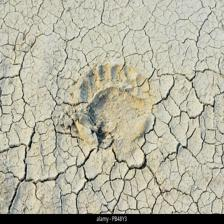bear: (73, 64, 156, 156)
